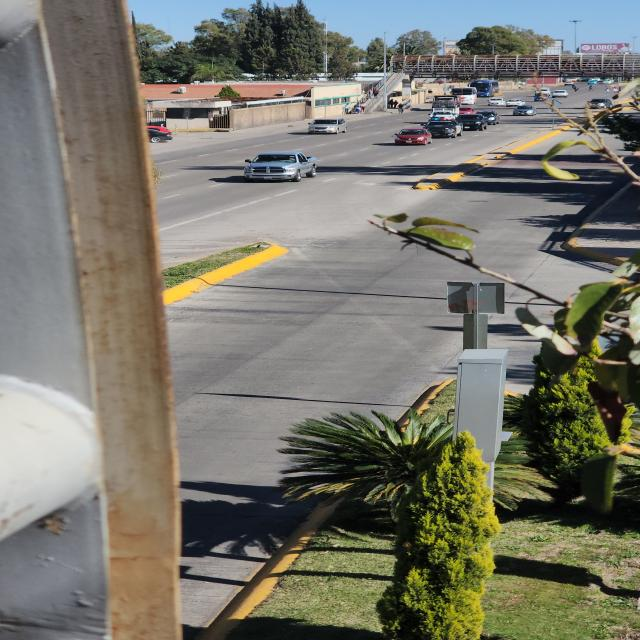Auto: (428, 110, 461, 139), (395, 126, 433, 146), (308, 120, 347, 136), (456, 113, 486, 132), (148, 124, 174, 143), (511, 104, 535, 115), (478, 113, 498, 126)
